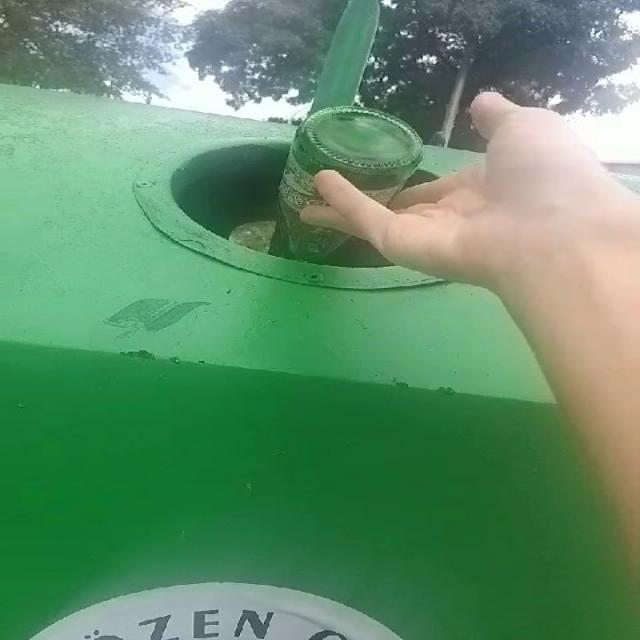glass: (269, 105, 423, 260)
